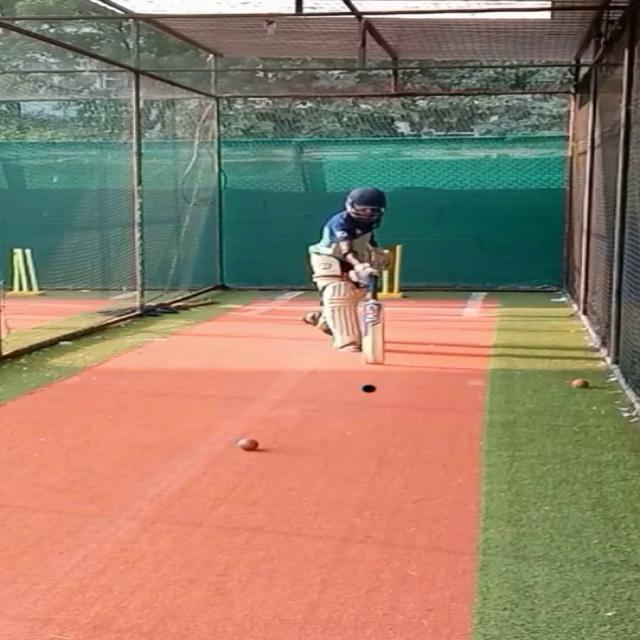ball: (237, 437, 263, 451), (569, 376, 594, 389)
stump: (378, 243, 407, 298)
